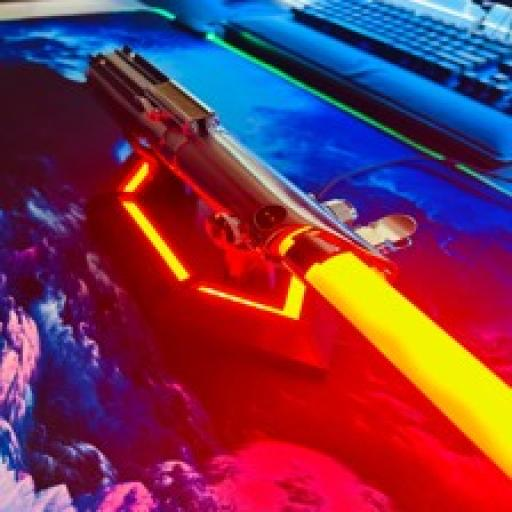lightsaber: (91, 46, 512, 480)
